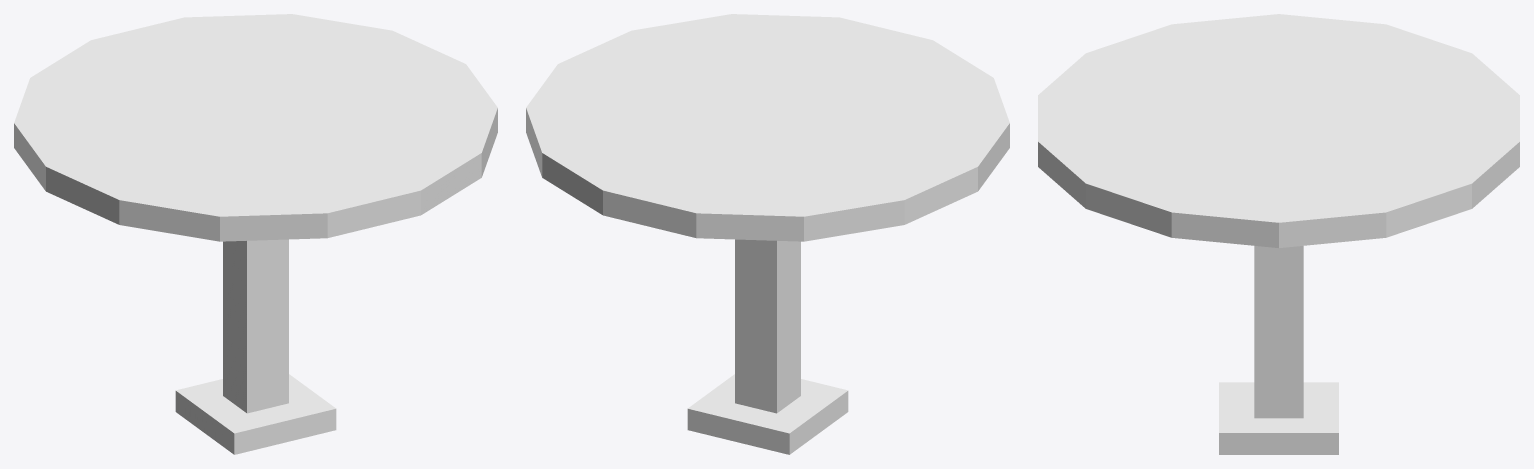
Rendered from Table_2A.fbx.
3 renders of one model, left to right at view 1: azimuth 30°, elevation 25°; view 2: azimuth 150°, elevation 25°; view 3: azimuth 270°, elevation 25°, orthographic.
Parts seen in each view (by area): view 1: polySurface1513; view 2: polySurface1513; view 3: polySurface1513.
Part boxes in pixels (bbox=[...]): polySurface1513: bbox=[14, 14, 497, 454]; polySurface1513: bbox=[526, 14, 1009, 454]; polySurface1513: bbox=[1038, 14, 1519, 454].
Size of the model in its own units: 1.5 by 1.04 by 1.46.
Materials: 1 (1 with a texture image).
